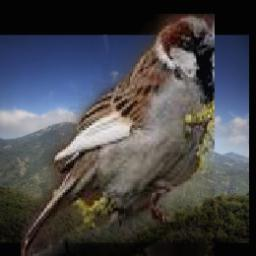Sparrow: (22, 14, 216, 256)
